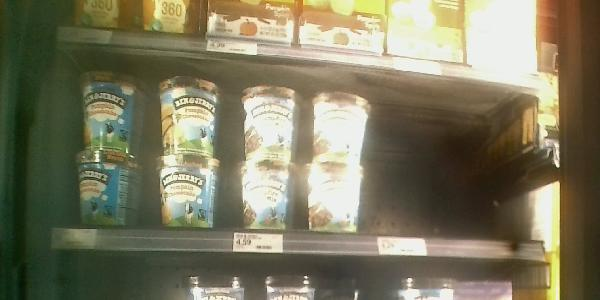icecream: (157, 71, 236, 158), (79, 68, 153, 152), (73, 149, 145, 227), (155, 153, 219, 232), (310, 87, 369, 165), (240, 83, 300, 159), (306, 162, 366, 237), (235, 160, 299, 227)
